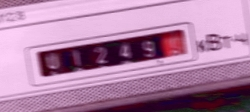0: (44, 51, 59, 73)
1: (69, 49, 81, 69)
2: (93, 46, 108, 67)
4: (118, 42, 131, 62)
7: (165, 32, 179, 52)
9: (141, 39, 156, 62)
screen: (17, 23, 196, 88)
